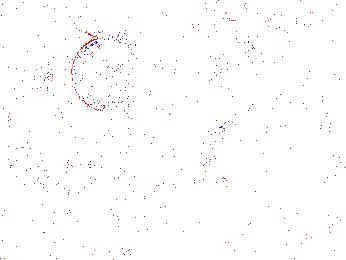moon jellyfish: (266, 37, 346, 126), (208, 35, 274, 139), (69, 37, 154, 115), (114, 110, 188, 184), (1, 57, 54, 112)
